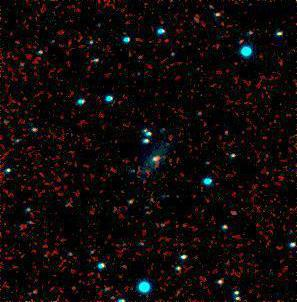star: (27, 114, 57, 144)
